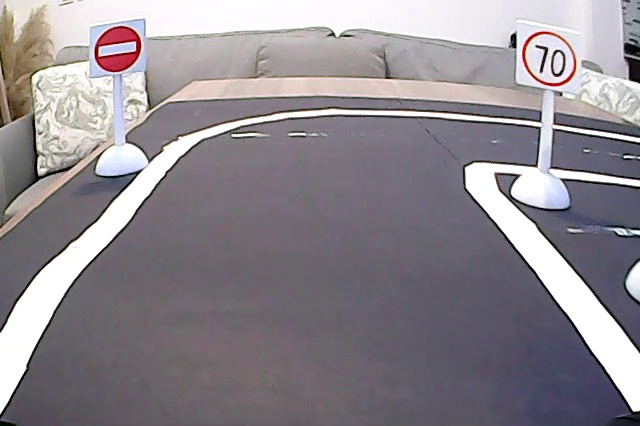do not enter: (92, 24, 143, 74)
speed limit 70: (520, 26, 579, 89)
